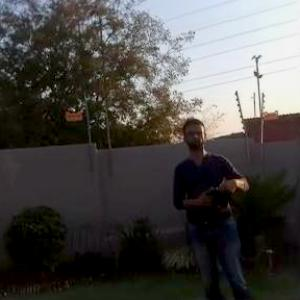follow: (169, 104, 261, 299)
